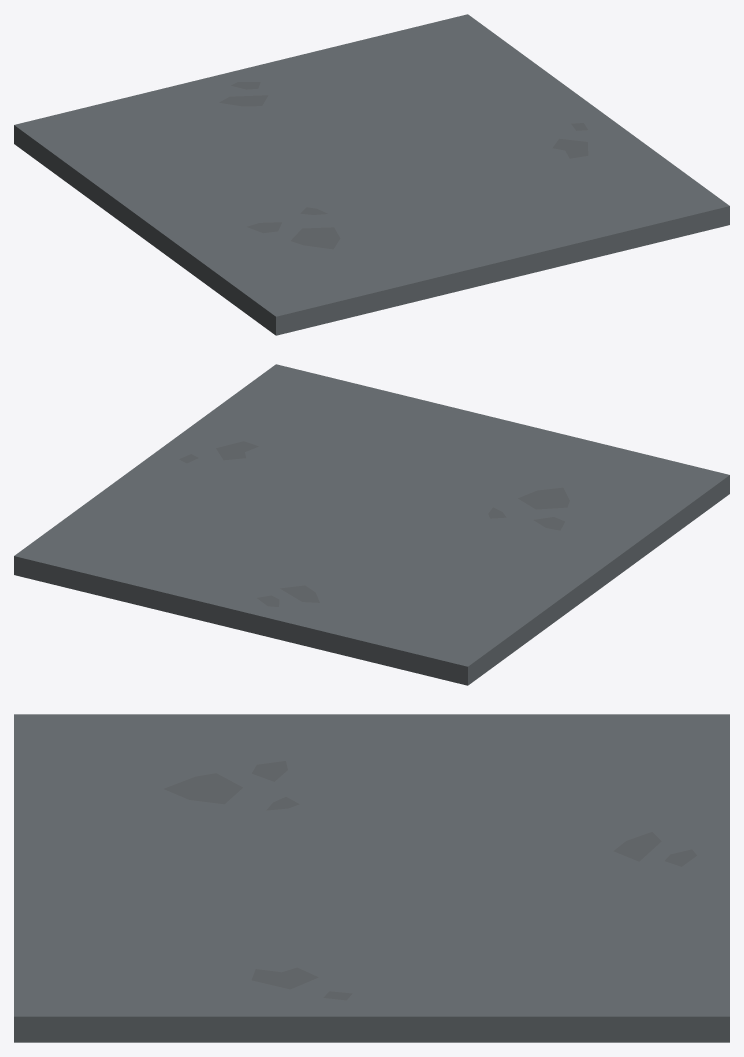
The model's file is Floor_04.fbx.
The picture shows the model from 3 angles, top to bottom: view 1: azimuth 30°, elevation 25°; view 2: azimuth 150°, elevation 25°; view 3: azimuth 270°, elevation 25°; orthographic projection. The views are drawn at different scales.
Visible parts, largest first — view 1: Floor_04; view 2: Floor_04; view 3: Floor_04.
Boxes of the visible parts, x1,y1,x2,y2 form: Floor_04: (14, 14, 729, 335); Floor_04: (14, 364, 729, 685); Floor_04: (14, 714, 729, 1042).
Bounding box in the file's own units: 500 × 20 × 500.
